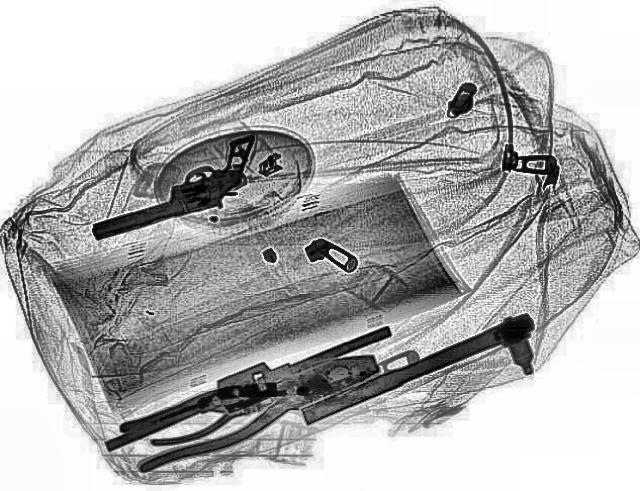Gun: (63, 132, 283, 238)
Pliers: (108, 338, 398, 474)
